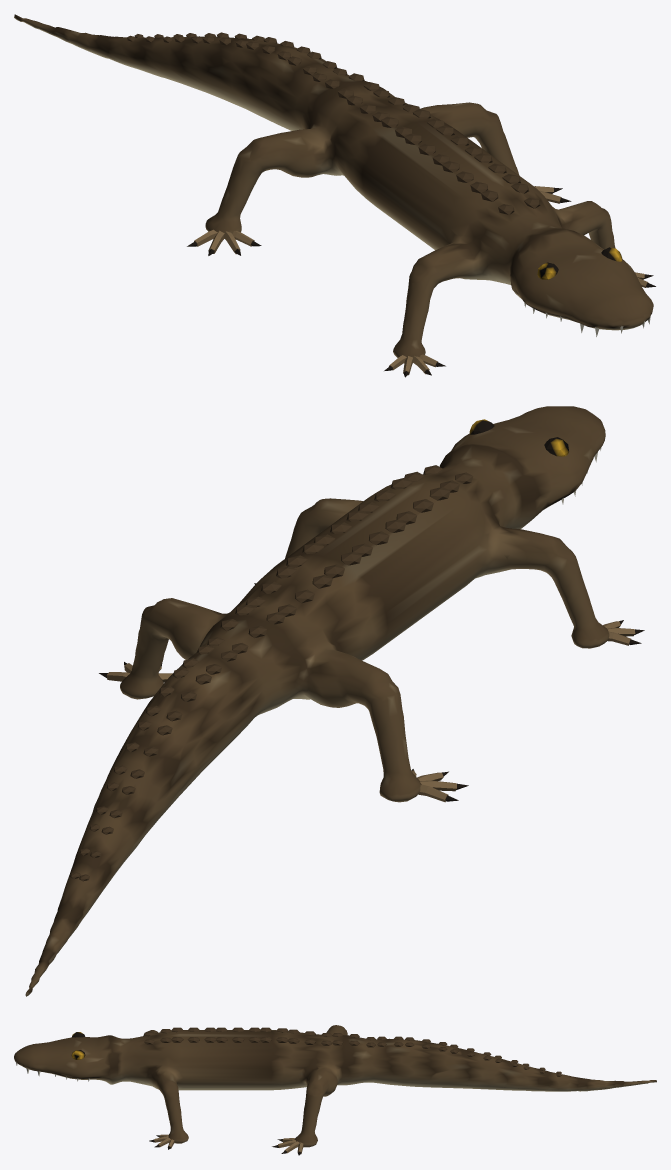
Rendered from Protosuchus.fbx.
3 renders of one model, top to bottom at view 1: azimuth 30°, elevation 25°; view 2: azimuth 150°, elevation 25°; view 3: azimuth 270°, elevation 25°, orthographic. The views are drawn at different scales.
Visible parts, largest first — view 1: Protosuchus; view 2: Protosuchus; view 3: Protosuchus.
Boxes of the visible parts, x1=… form: Protosuchus: x1=14, y1=14, x2=655, y2=377; Protosuchus: x1=25, y1=406, x2=644, y2=996; Protosuchus: x1=14, y1=1025, x2=656, y2=1155.
Size of the model in its own units: 0.4161 by 0.151 by 1.15.
